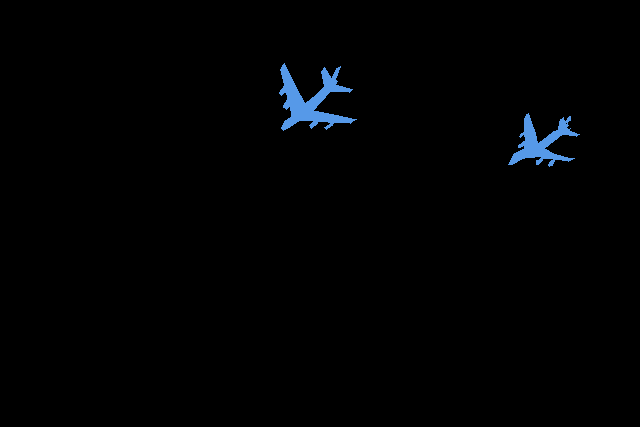Airplane: (279, 63, 357, 130), (508, 113, 580, 166)
